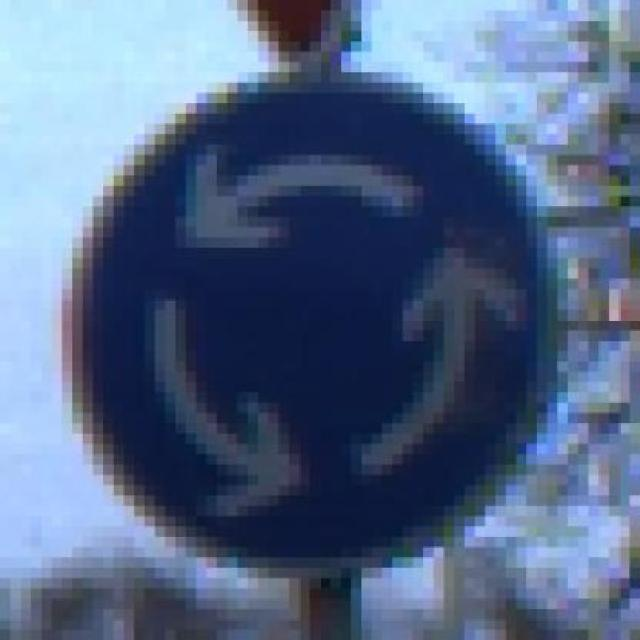Round-About: (52, 72, 599, 598)
